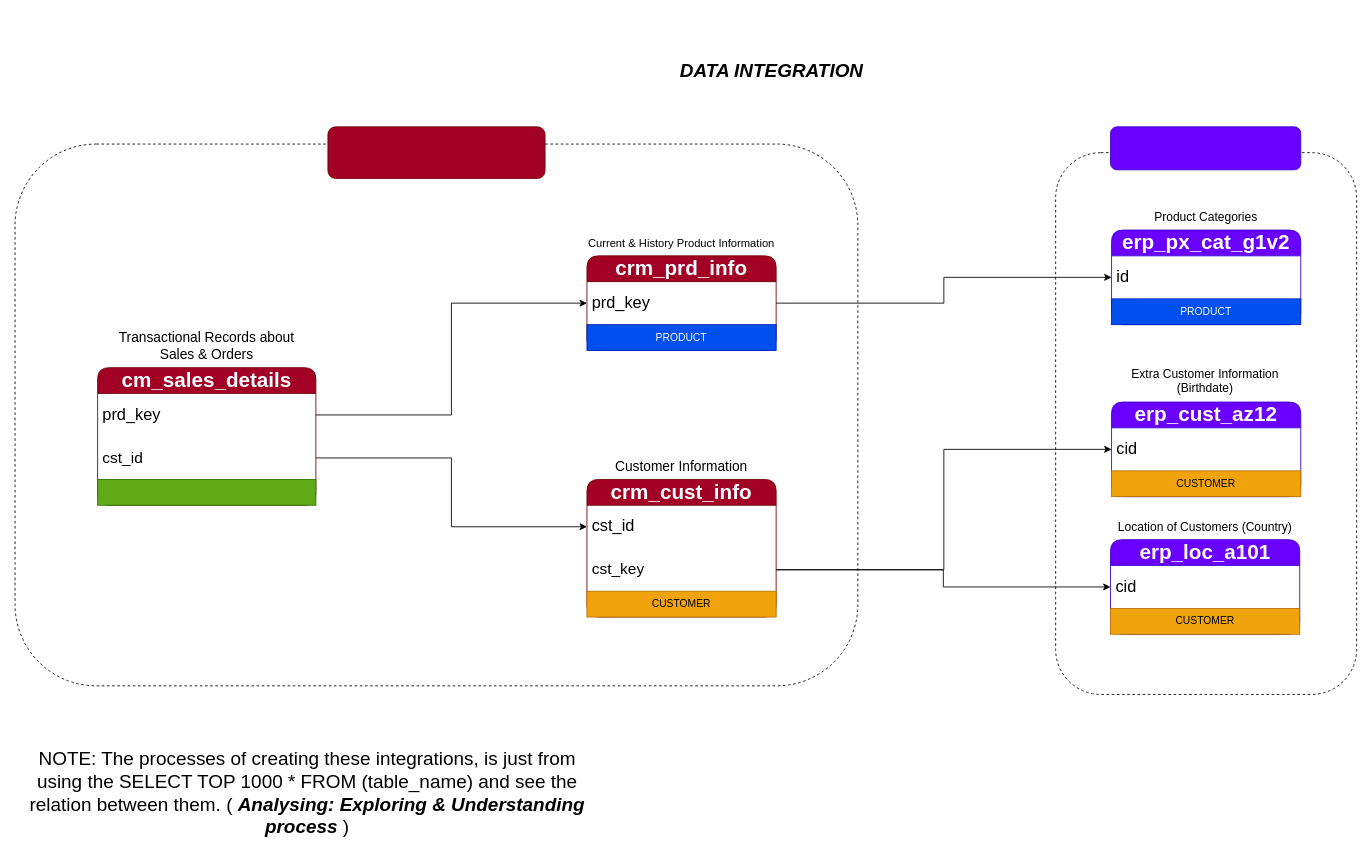
The diagram is 1372 pixels wide and 863 high, and some of its shapes have lost their labels. Here are the shapes that lost their labels. From the top down, the centre of each, then its label:
At pixel 436 152: "CRM".
At pixel 1205 148: "ERP".
At pixel 206 492: "SALES".
